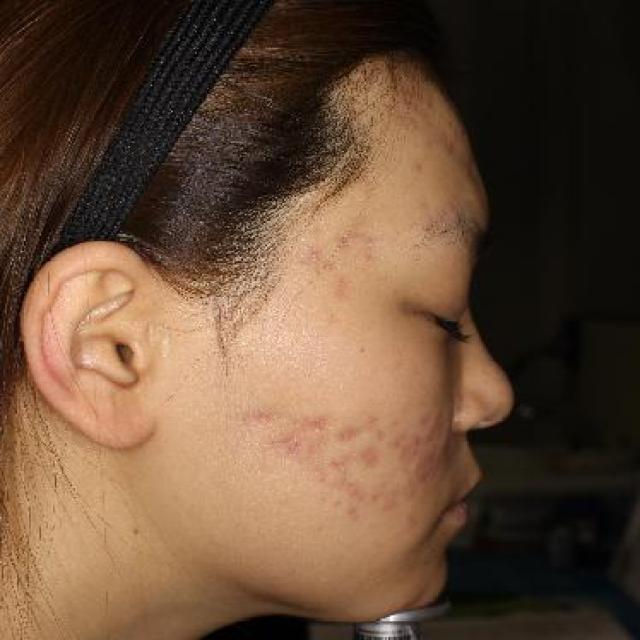dark spot: (334, 420, 368, 448), (358, 446, 387, 472), (435, 135, 462, 160), (306, 412, 331, 431), (409, 152, 430, 174), (328, 452, 352, 471), (336, 231, 352, 251), (305, 243, 320, 262)
